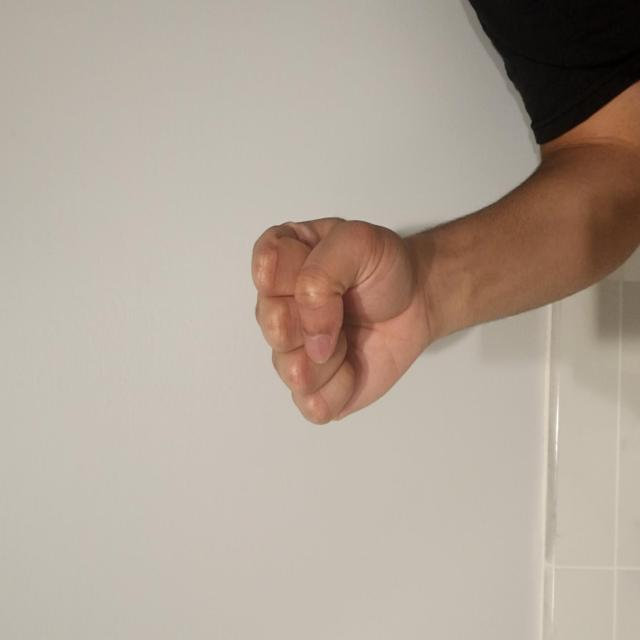S: (129, 290, 393, 600)
